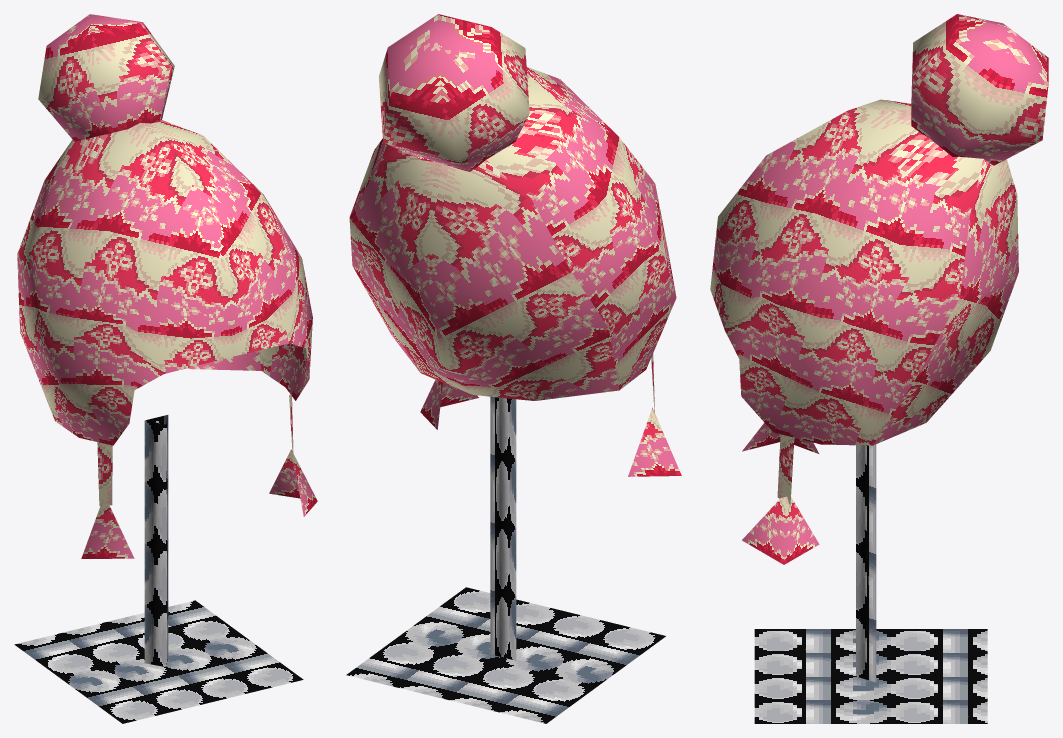
The model's file is 2915head067_c.gltf.
3 views of the same model, side by side, from view 1: azimuth 30°, elevation 25°; view 2: azimuth 150°, elevation 25°; view 3: azimuth 270°, elevation 25° (orthographic). The views are drawn at different scales.
Parts seen in each view (by area): view 1: 2915head067_c; view 2: 2915head067_c; view 3: 2915head067_c.
Boxes of the visible parts, x1,y1,x2,y2 form: 2915head067_c: [14, 14, 317, 723]; 2915head067_c: [346, 14, 681, 723]; 2915head067_c: [710, 14, 1048, 723].
Bounding box in the file's own units: 0.6626 × 1.48 × 0.697.
Materials: 2 (2 with a texture image).
